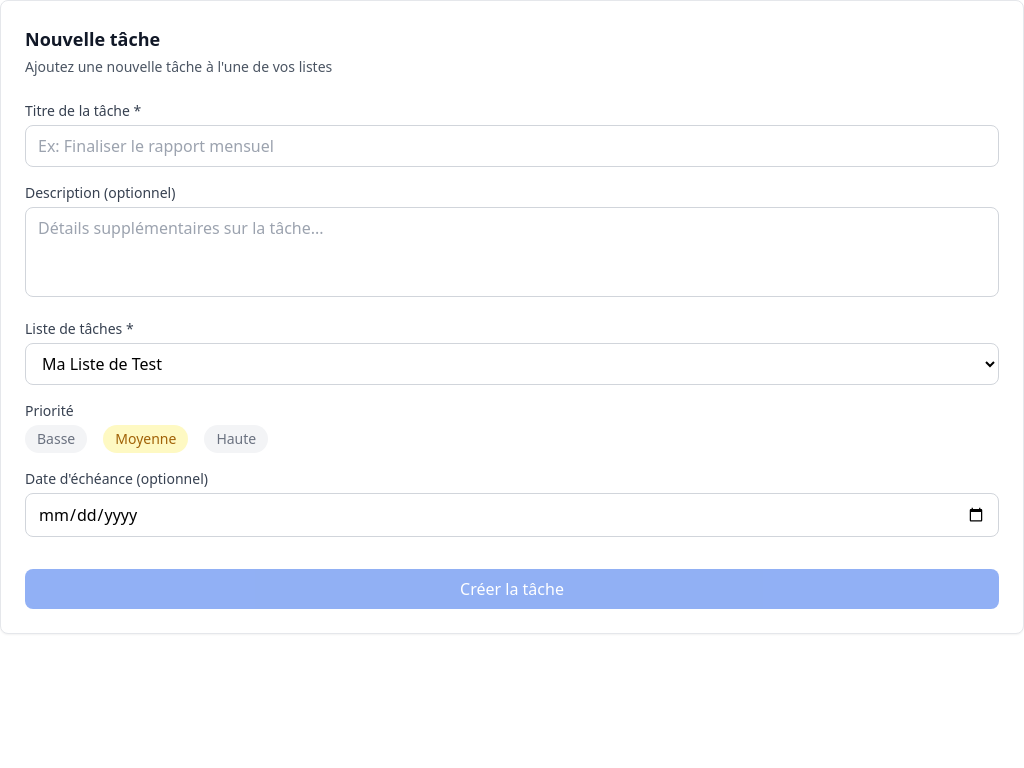
Test: TodoForm - Feature Principale: Création de Tâche › devrait valider les champs requis avant la soumission
The image size is (1024, 768).
Check: the heading "Nouvelle tâche" is shown, box [25,27,160,51]
Check: the button "Créer la tâche" is disabled, box [25,569,999,609]
Type "AB" into the field with placeholder "Ex: Finaliser le rapport mensuel" at coordinates (512, 146), box [25,125,999,167]
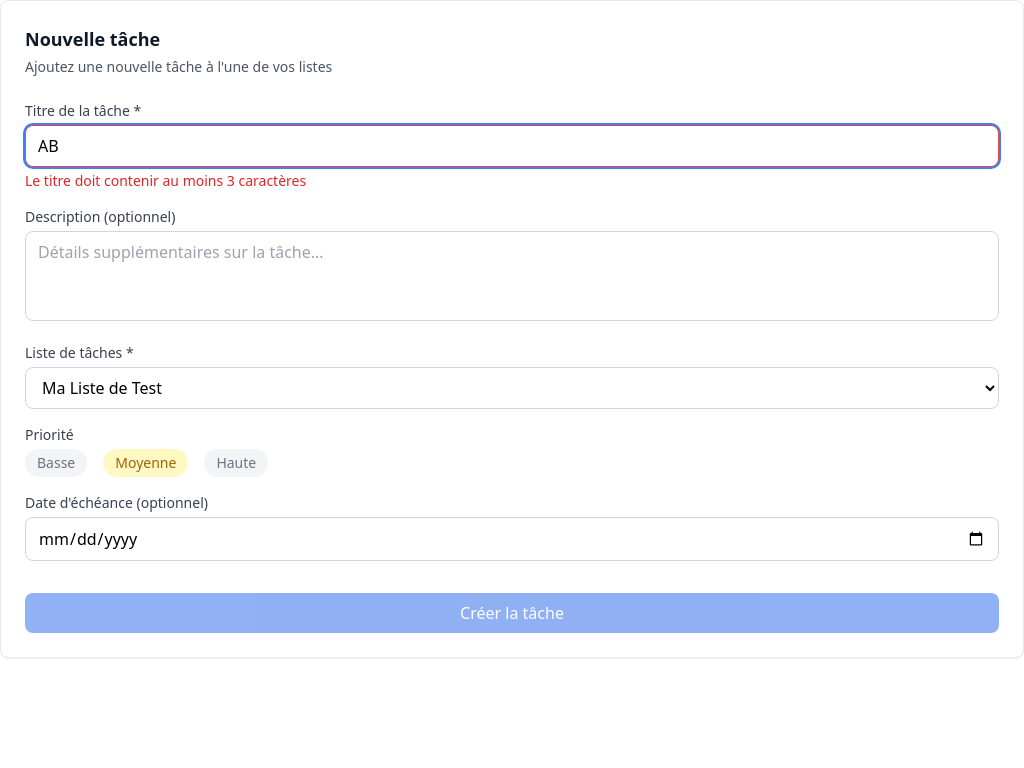
Check: the text "Le titre doit contenir au moins 3 caractères" is shown, box [25,171,306,190]
Note: Remplir un titre valide
Replace the text in the field with placeholder "Ex: Finaliser le rapport mensuel" with "Tâche de test valide" at coordinates (512, 146), box [25,125,999,167]
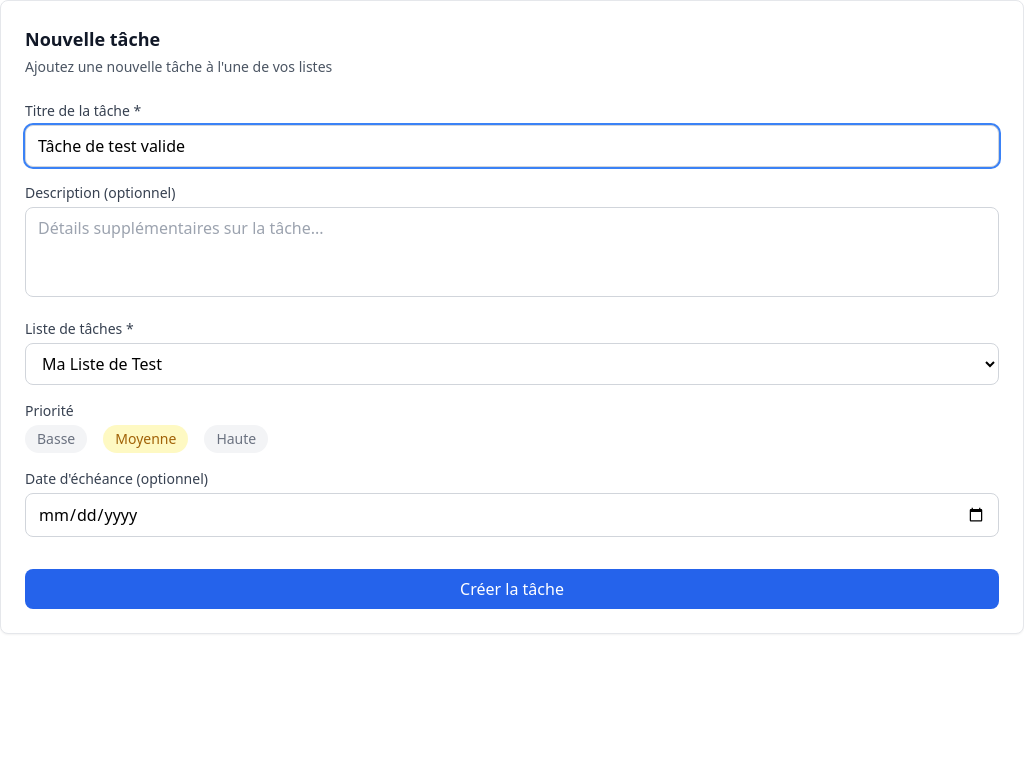
Check: the button "Créer la tâche" is enabled, box [25,569,999,609]
